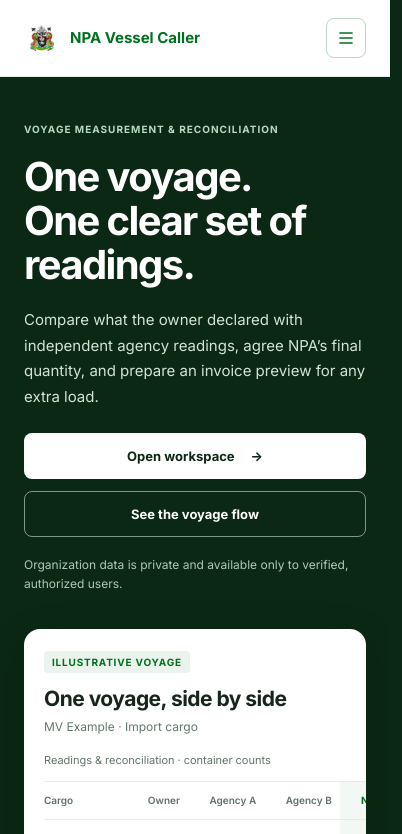
Test: Landing › presents only supported workflows and exposes responsive navigation
This screenshot has width=402, height=834.
expect the heading "One voyage.One clear set of readings." is shown: met, box [24, 152, 306, 289]
expect the text "Illustrative voyage" is shown: met, box [44, 651, 190, 673]
Click the button named "Menu" at (346, 38), box [326, 18, 366, 58]
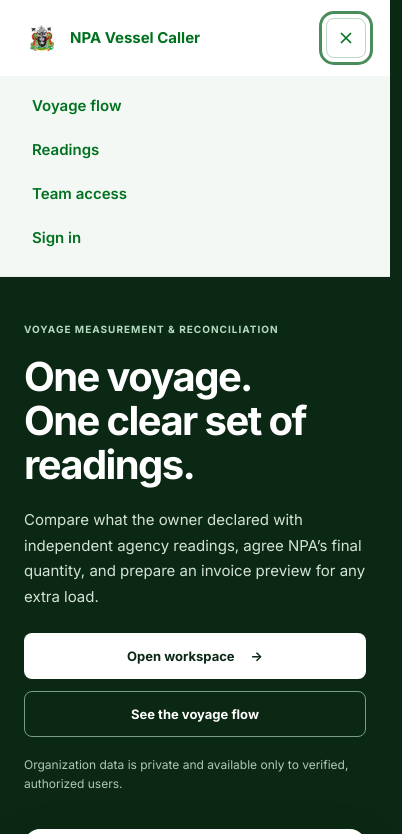
expect the button named "Menu" is expanded: met, box [326, 18, 366, 58]
Click the link "Voyage flow" at (77, 106), box [32, 96, 122, 115]
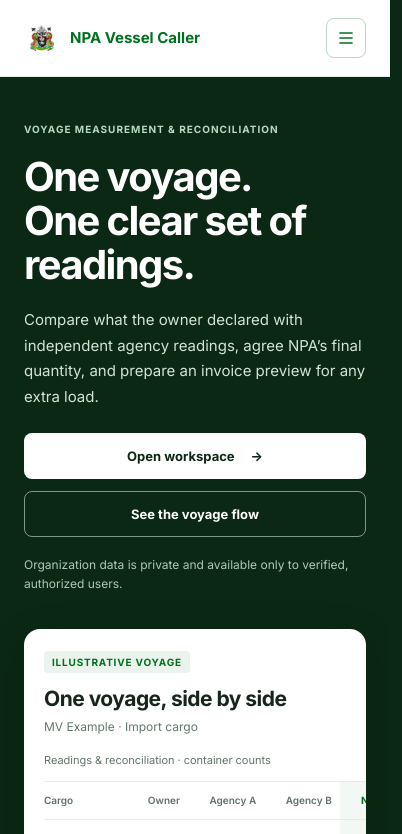
expect the button named "Menu" is collapsed: met, box [326, 18, 366, 58]
